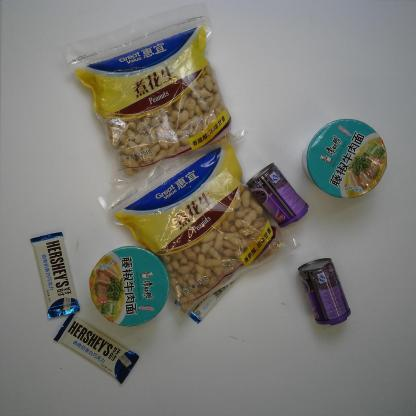Canned Food: (246, 161, 310, 228), (297, 257, 351, 326)
Chocolate: (53, 313, 139, 385), (174, 259, 245, 325), (30, 232, 80, 319)
Dried Food: (96, 136, 302, 317), (60, 3, 249, 186)
Instant Noodles: (302, 118, 388, 199), (89, 245, 171, 327)
